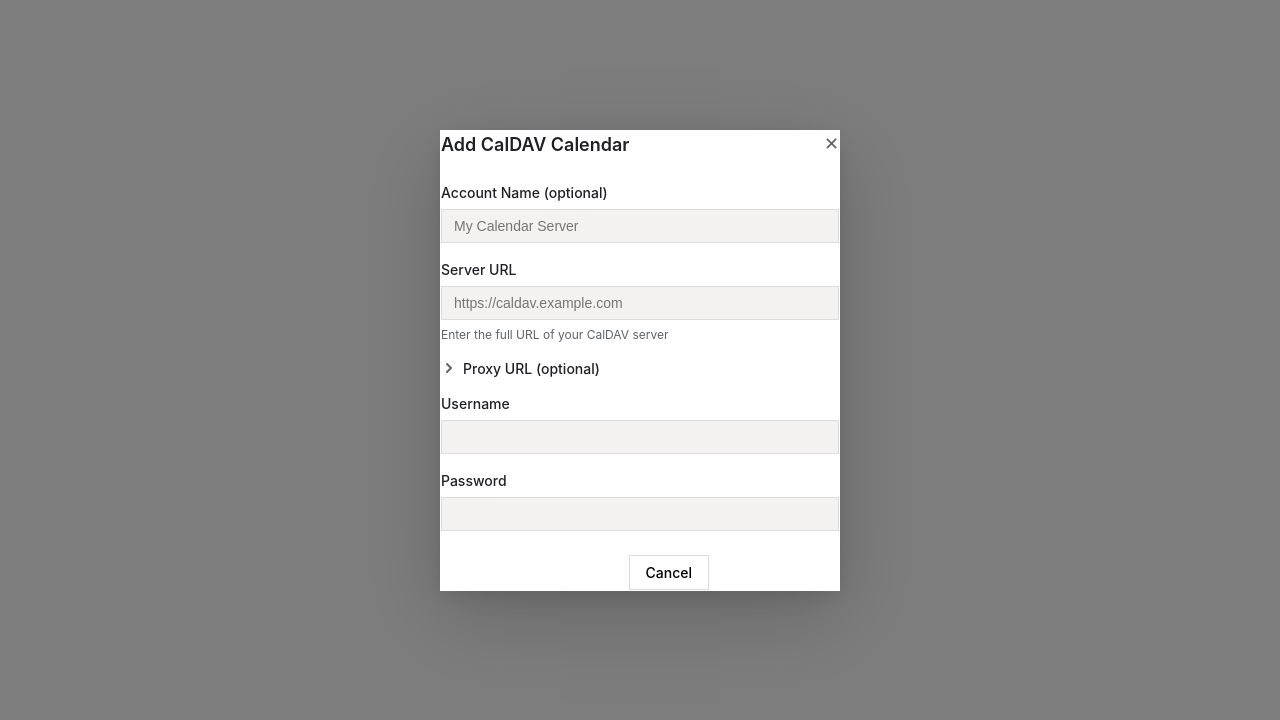
Test case: AddCalendarModal › surfaces the error and hint when addAccount fails to connect
The image size is (1280, 720).
Type "https://bad.example.com" into the field labelled "Server URL".
click(640, 302); type("https://bad.example.com")  # box x1=441 y1=286 x2=839 y2=320
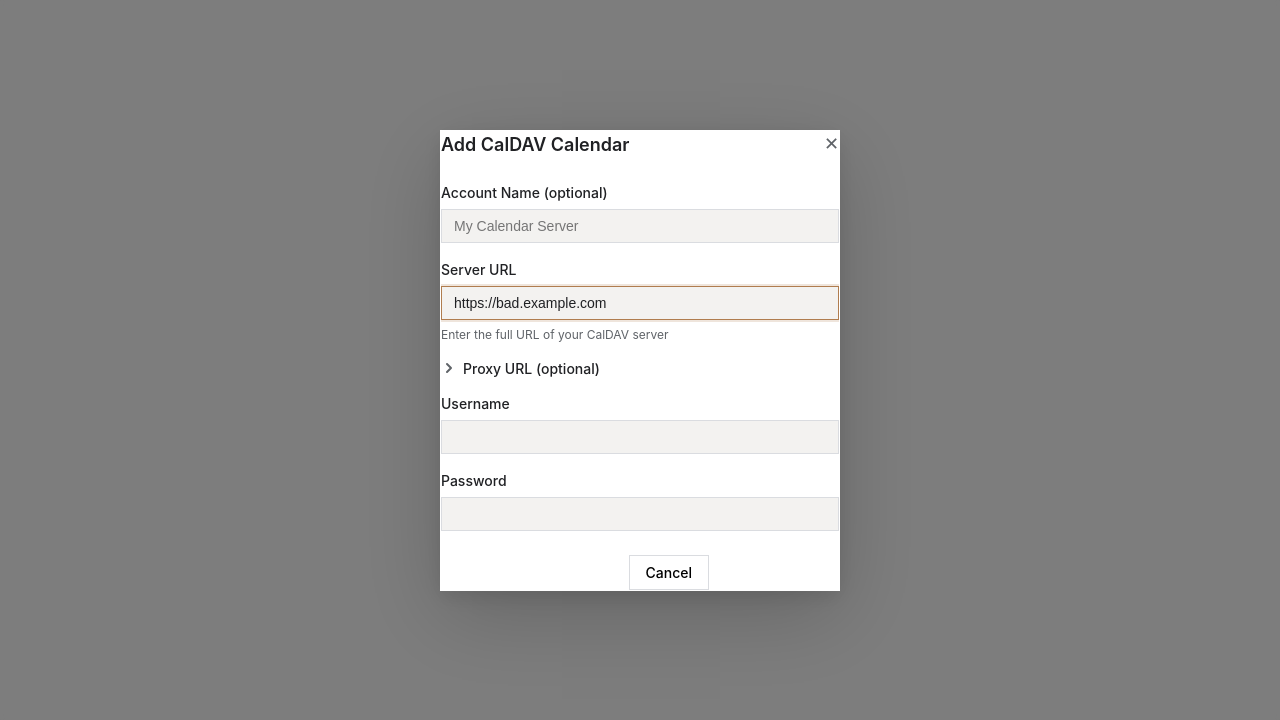
Type "baduser" into the field labelled "Username".
click(640, 436); type("baduser")  # box x1=441 y1=420 x2=839 y2=454
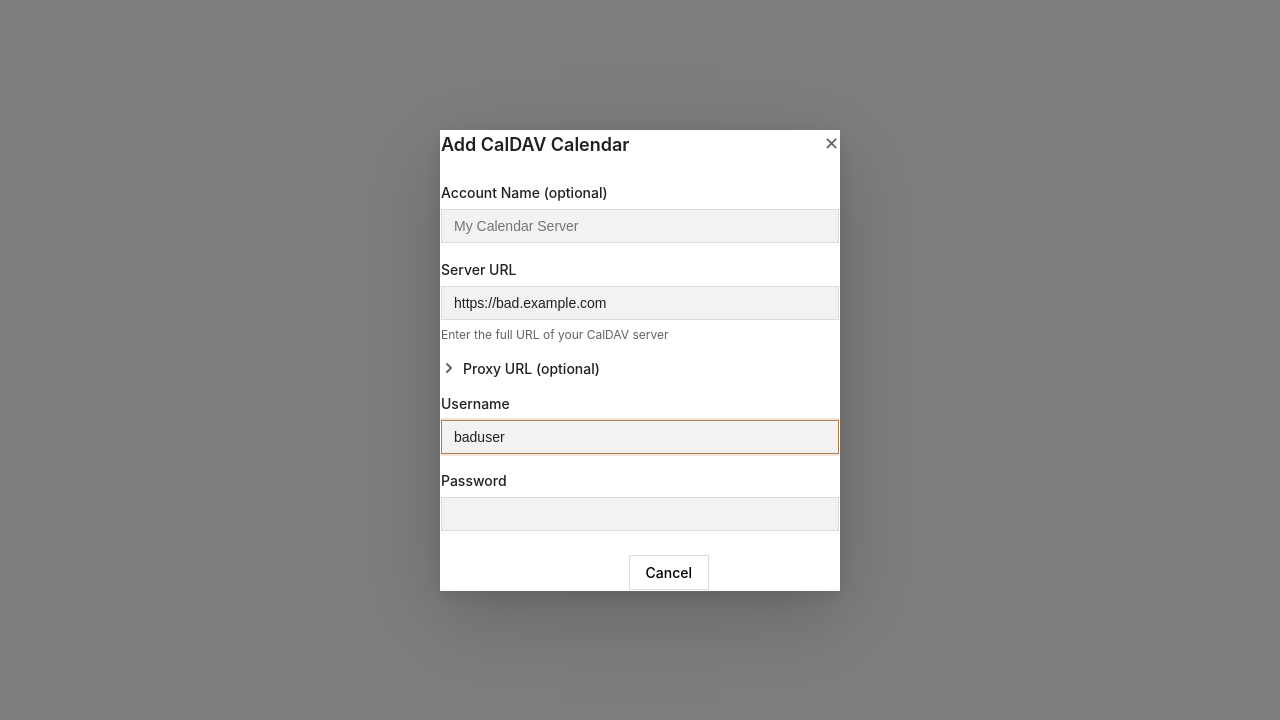
Type "wrongpass" into the password field labelled "Password".
click(640, 514); type("wrongpass")  # box x1=441 y1=496 x2=839 y2=530
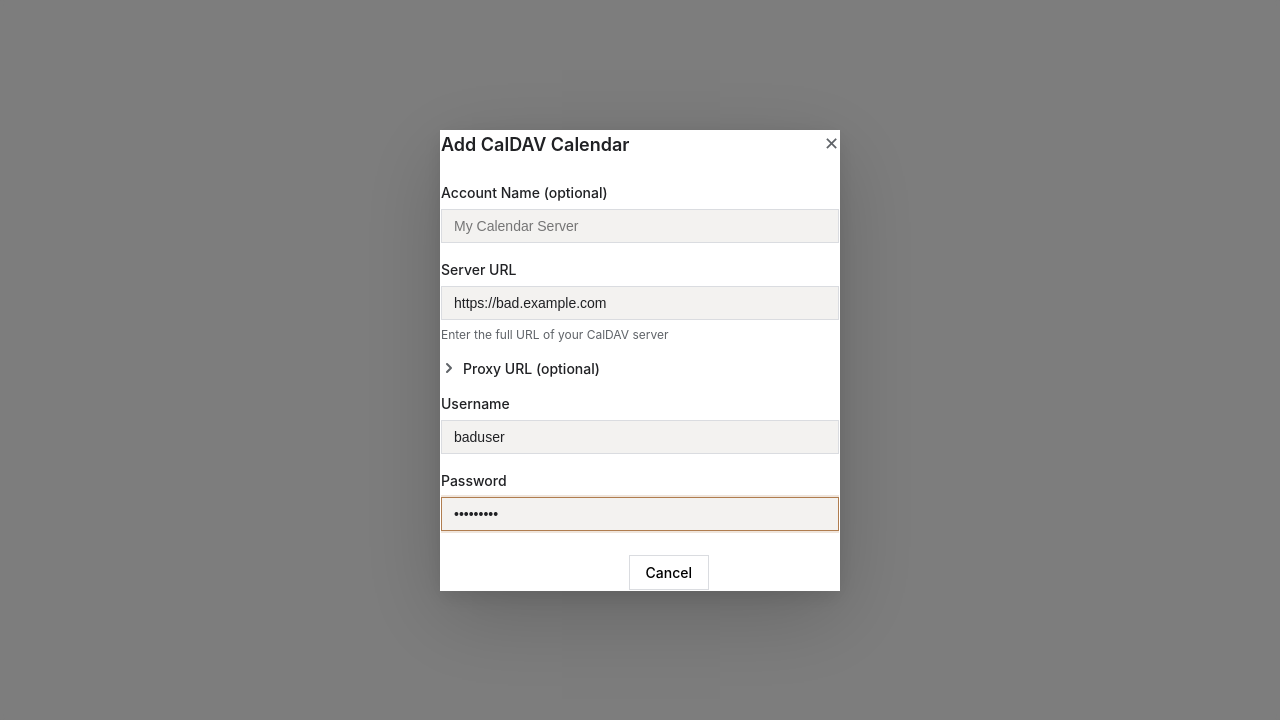
Click the button "Add Calendar".
click(774, 572)  # box x1=709 y1=554 x2=839 y2=590
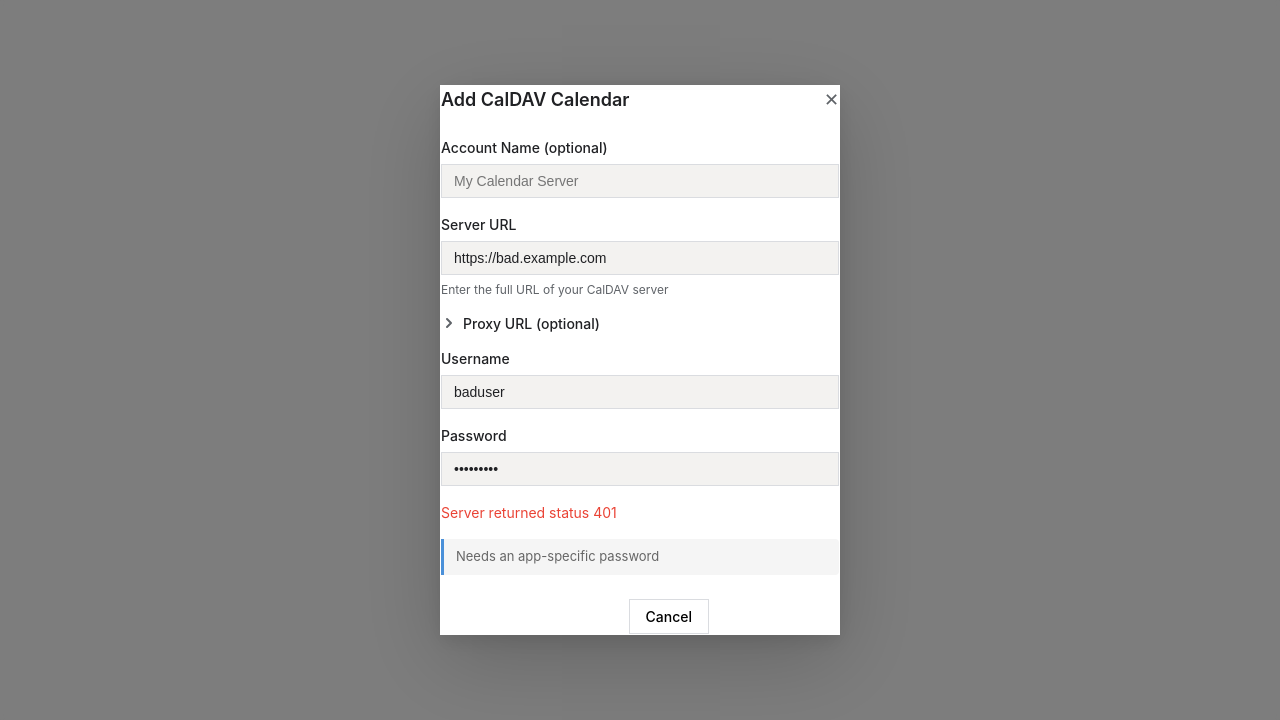
Expected: the heading "Add CalDAV Calendar" is shown, x1=441 y1=86 x2=630 y2=113
Result: the text "Server returned status 401" is shown at x1=441 y1=504 x2=617 y2=521
Result: the text "Needs an app-specific password" is shown at x1=441 y1=539 x2=839 y2=575
